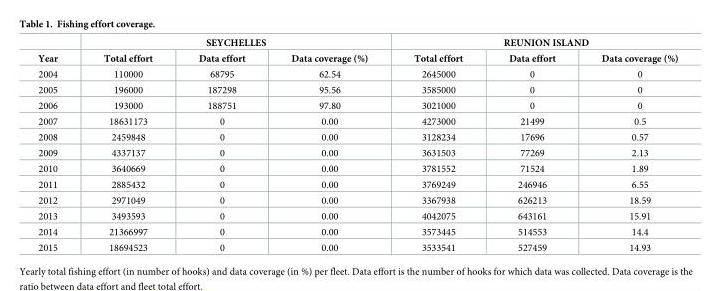table: (37, 37, 677, 252)
table column: (267, 37, 390, 252), (577, 37, 677, 252), (390, 37, 485, 252), (80, 37, 174, 252), (174, 37, 267, 252), (485, 37, 577, 252), (37, 37, 80, 252)
table column header: (37, 37, 677, 65)
table row: (37, 65, 677, 81), (37, 81, 677, 97), (37, 97, 677, 113), (37, 113, 677, 129), (37, 144, 677, 160), (37, 160, 677, 176), (37, 176, 677, 192), (37, 192, 677, 208), (37, 223, 677, 239), (37, 50, 677, 65), (37, 129, 677, 144), (37, 208, 677, 223), (37, 37, 677, 50), (37, 239, 677, 252)
table spanning cell: (80, 37, 390, 50), (390, 37, 677, 50), (37, 37, 80, 65)
